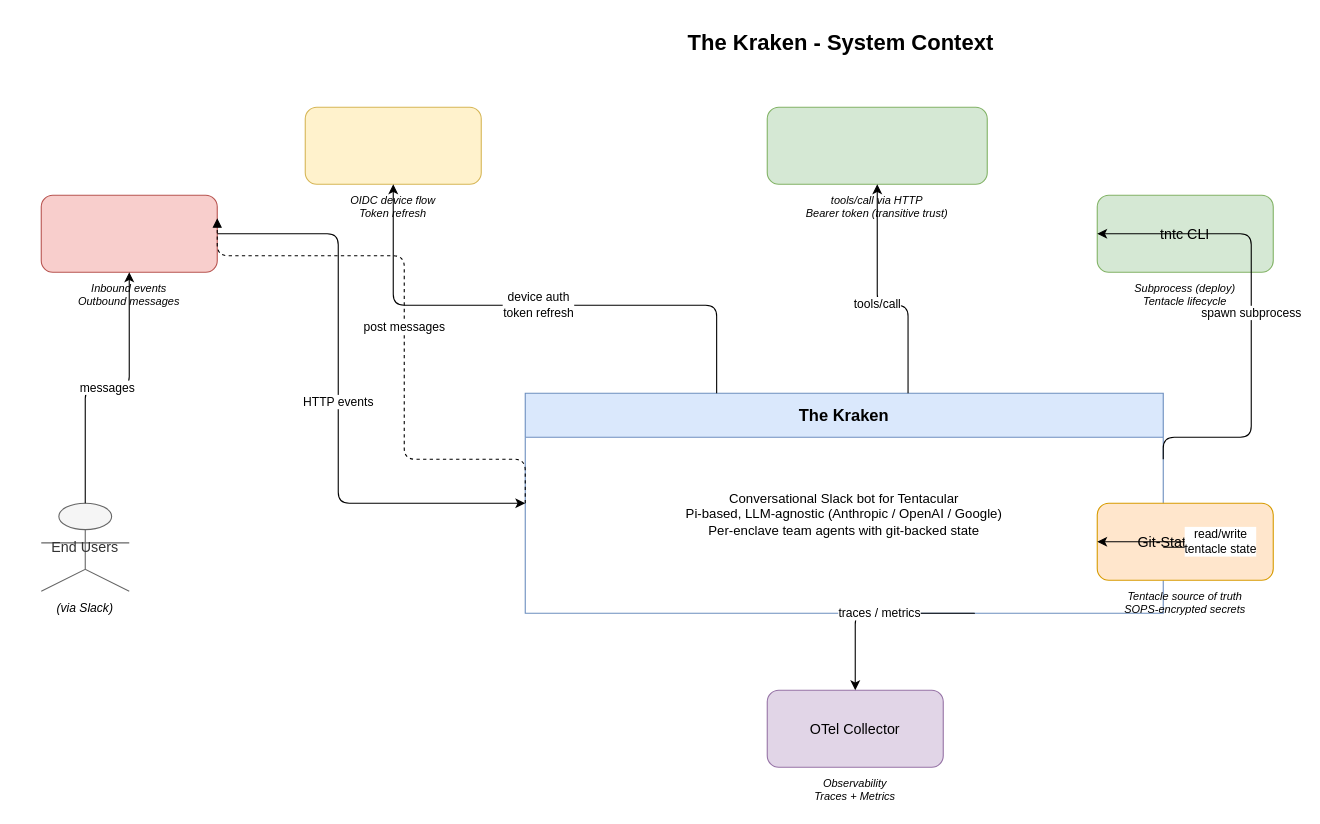
Some shapes in this 1320 by 824 pixel diagram are drawn without their labels. The centre of each missing label's shape, as x and y in pixels:
"Keycloak" goes at (392,145).
"Slack API" goes at (128,233).
"Tentacular MCP Server" goes at (876,145).
